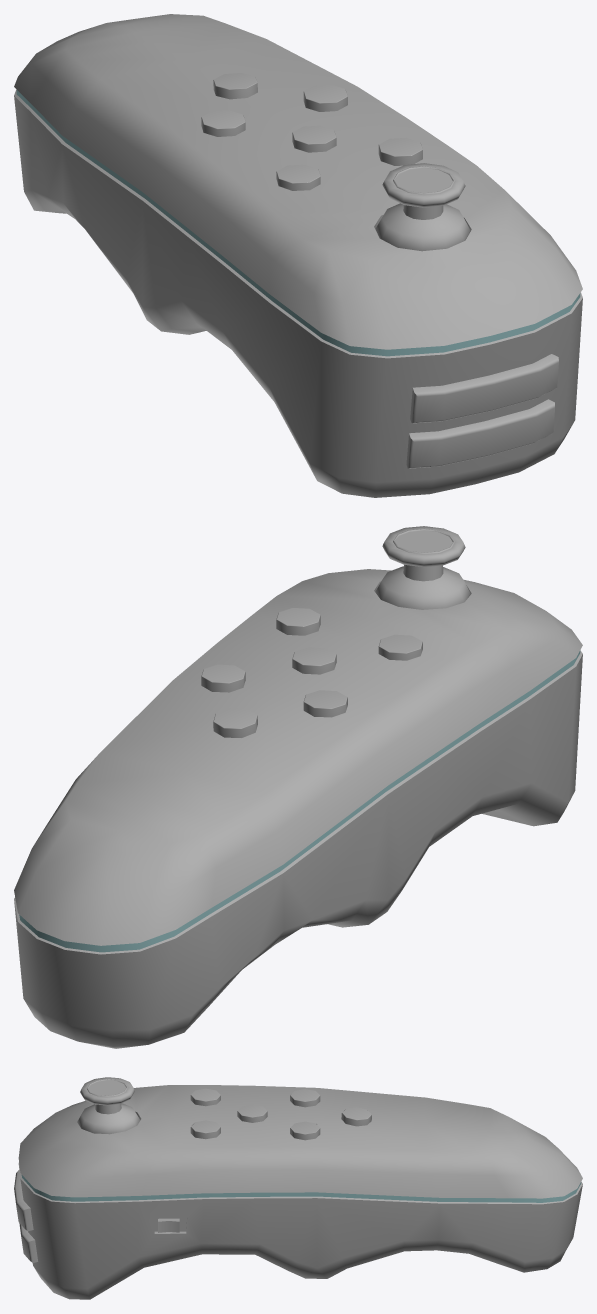
The model's file is Vr_Remote.fbx.
3 renders of one model, top to bottom at view 1: azimuth 30°, elevation 25°; view 2: azimuth 150°, elevation 25°; view 3: azimuth 270°, elevation 25°, orthographic. The views are drawn at different scales.
Parts seen in each view (by area): view 1: Body, Main_Button, Front_Button_01, Front_Button_02, Button_01, Button_010, Button_09, Button_011, Button_012, Button_08; view 2: Body, Main_Button, Button_012, Button_01, Button_010, Button_09, Button_011, Button_08; view 3: Body, Main_Button, Front_Button_01, Button_012, Button_010, Button_01, Button_011, Button_09, Button_08, Front_Button_02, Button_07.
Part boxes in pixels (x1=…): Body: x1=14, y1=14, x2=582, y2=497; Main_Button: x1=375, y1=163, x2=470, y2=251; Front_Button_01: x1=410, y1=354, x2=558, y2=423; Front_Button_02: x1=406, y1=399, x2=554, y2=468; Button_01: x1=378, y1=137, x2=422, y2=165; Button_010: x1=303, y1=84, x2=347, y2=111; Button_09: x1=292, y1=125, x2=336, y2=152; Button_011: x1=201, y1=110, x2=245, y2=136; Button_012: x1=213, y1=73, x2=257, y2=99; Button_08: x1=276, y1=164, x2=320, y2=190; Body: x1=14, y1=569, x2=582, y2=1048; Main_Button: x1=375, y1=526, x2=470, y2=609; Button_012: x1=213, y1=708, x2=257, y2=737; Button_01: x1=276, y1=608, x2=320, y2=635; Button_010: x1=201, y1=664, x2=245, y2=692; Button_09: x1=292, y1=647, x2=336, y2=674; Button_011: x1=303, y1=690, x2=347, y2=717; Button_08: x1=378, y1=634, x2=422, y2=660; Body: x1=18, y1=1085, x2=582, y2=1299; Main_Button: x1=77, y1=1077, x2=140, y2=1134; Front_Button_01: x1=14, y1=1170, x2=33, y2=1231; Button_012: x1=341, y1=1107, x2=371, y2=1126; Button_010: x1=290, y1=1121, x2=320, y2=1140; Button_01: x1=190, y1=1120, x2=220, y2=1139; Button_011: x1=290, y1=1089, x2=320, y2=1107; Button_09: x1=237, y1=1104, x2=267, y2=1122; Button_08: x1=190, y1=1088, x2=220, y2=1106; Front_Button_02: x1=19, y1=1223, x2=38, y2=1262; Button_07: x1=158, y1=1218, x2=179, y2=1232.
Size of the model in its own units: 2.81 by 2.79 by 7.91.
